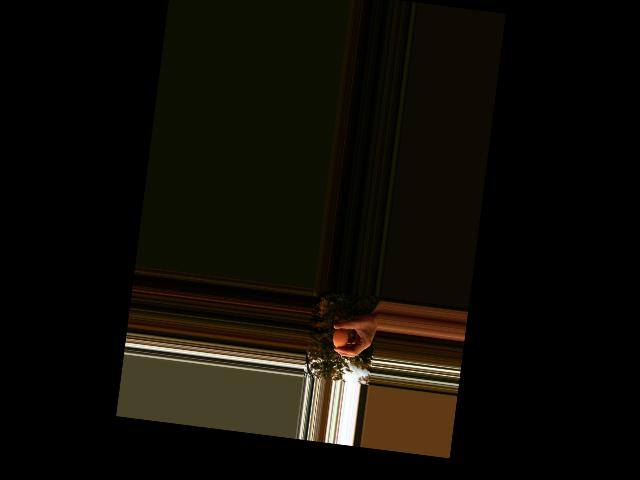egg: (331, 327, 349, 349)
